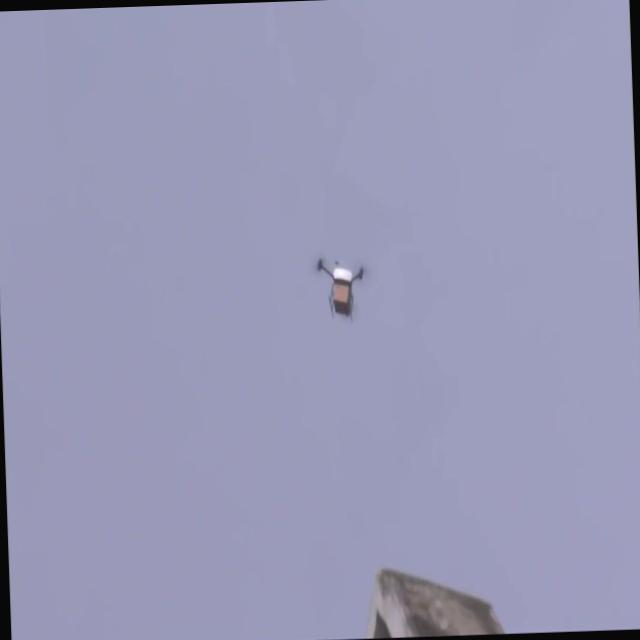drone: (313, 255, 370, 326)
